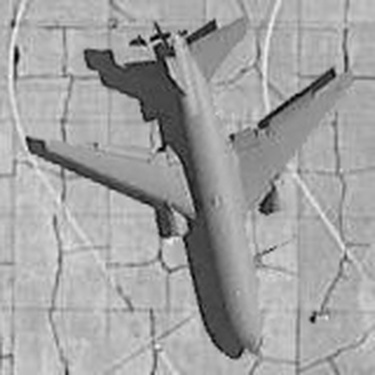airplane: (30, 9, 357, 360)
